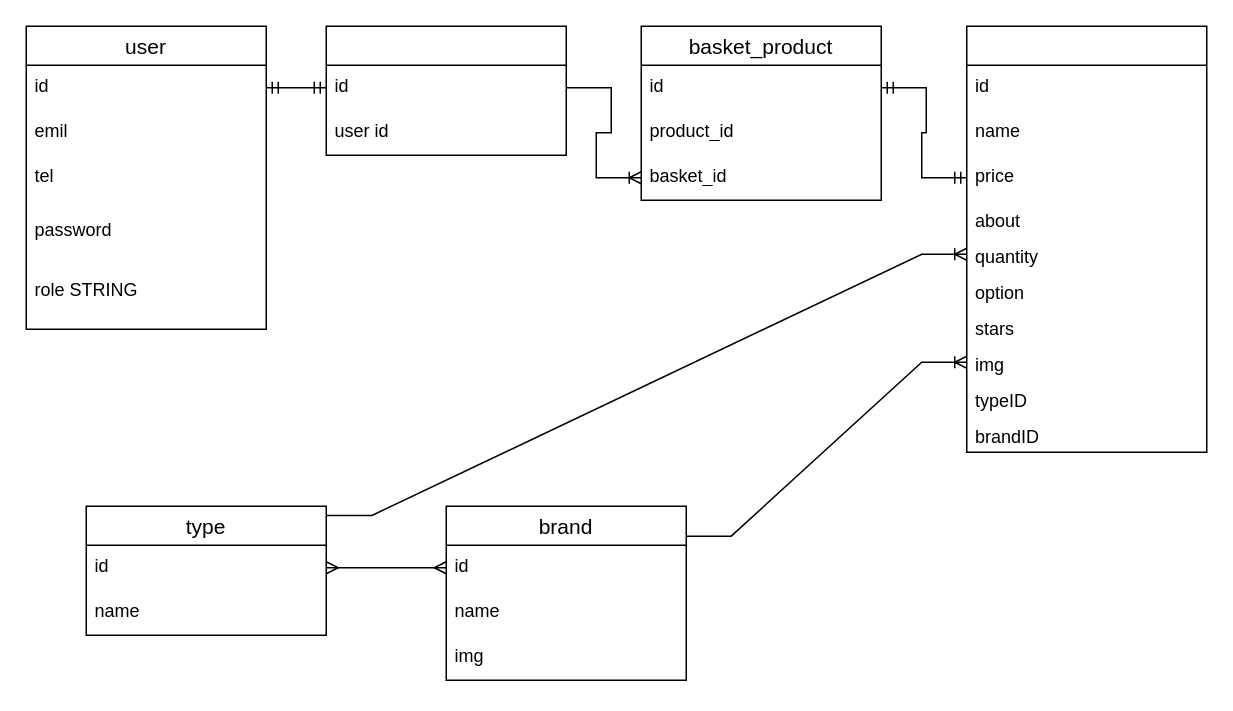
Some shapes in this 1233 by 711 pixel diagram are drawn without their labels. Here are the shapes that lost their labels. From the top down, the box of each, then its label:
(325, 25, 566, 155): basket
(965, 25, 1207, 452): product
